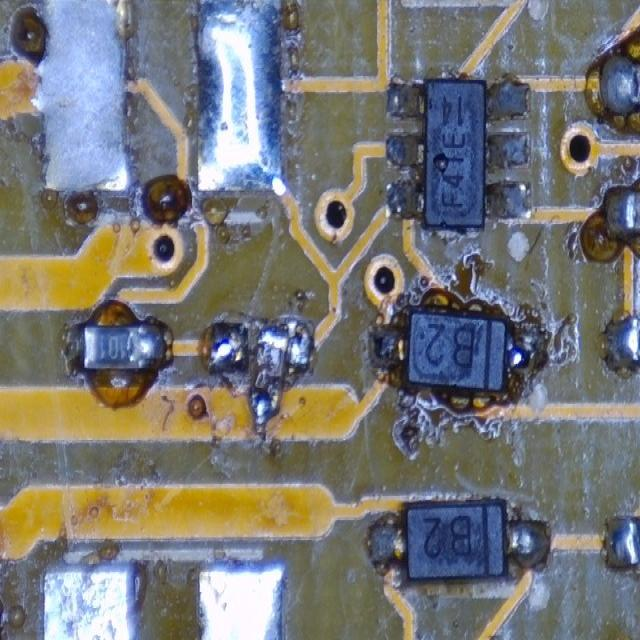Dry_joint: (602, 57, 636, 116), (488, 79, 529, 118), (486, 181, 527, 218), (488, 134, 528, 167)
Incorrect_installation: (251, 317, 311, 428)
